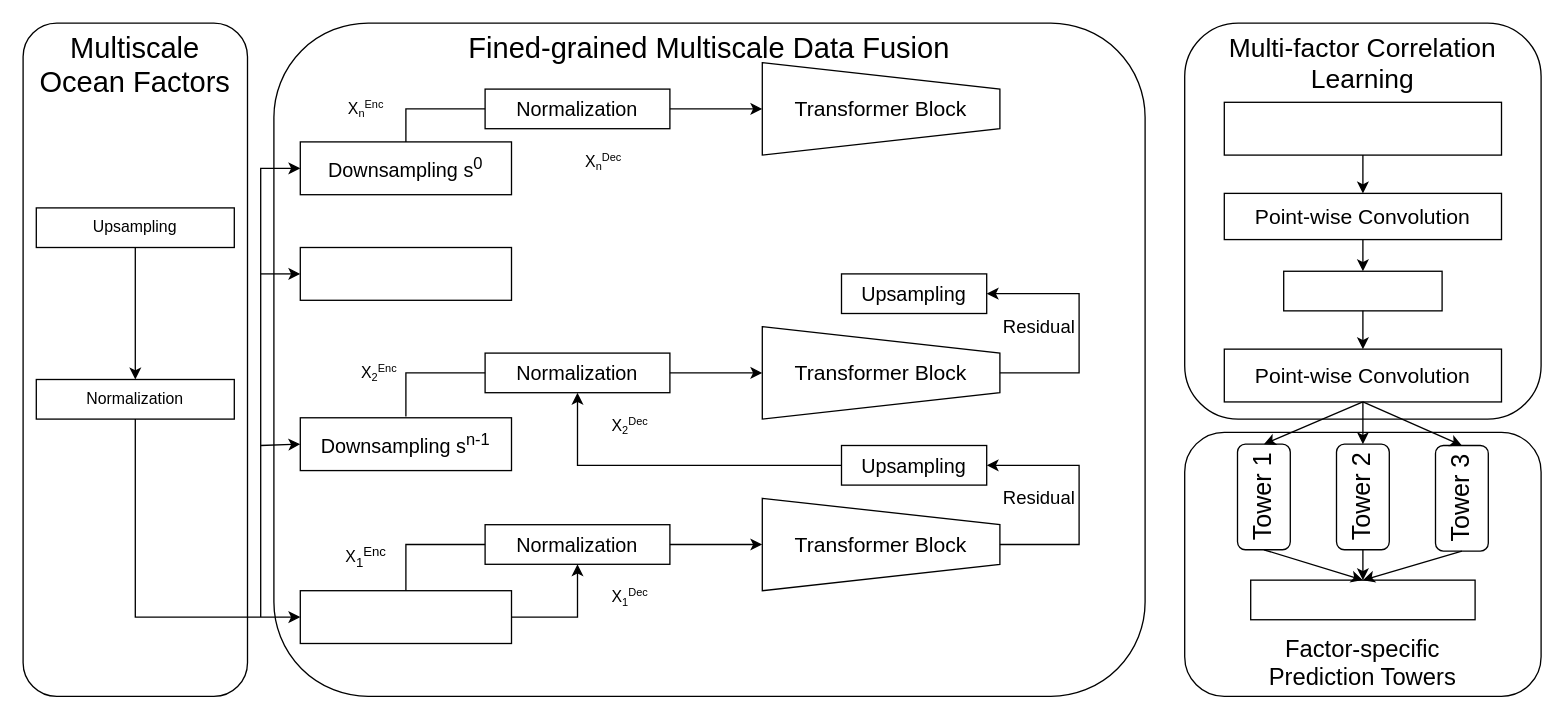
This 1564x719 diagram has some shape labels left out. The centre of each missing label's shape, as x and y in pixels:
"Data Embedding" goes at (1362,128).
"Downsampling s ..." goes at (405,273).
"Downsampling s n" goes at (405,616).
"Gelu" goes at (1362,290).
"Prediction Results" goes at (1362,599).
